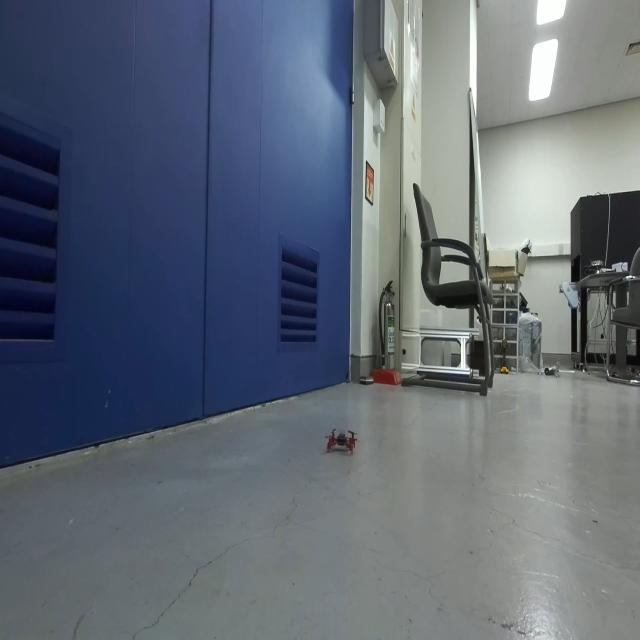crazyflie: (325, 420, 360, 460)
